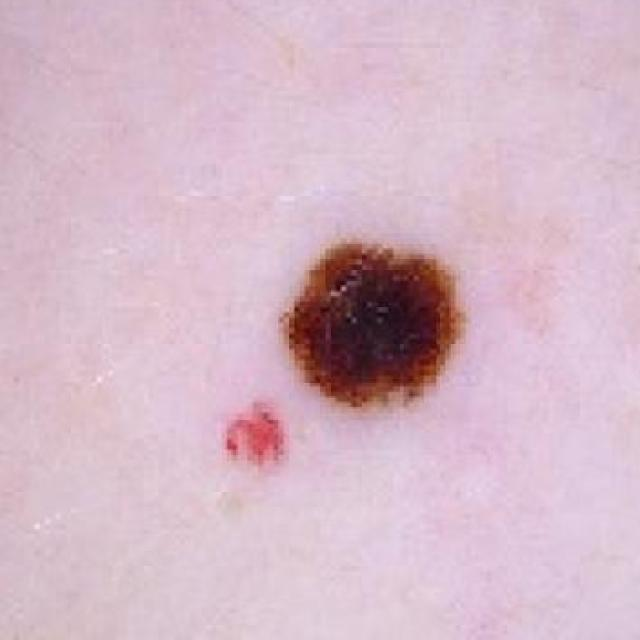MEL: (187, 161, 551, 568)
